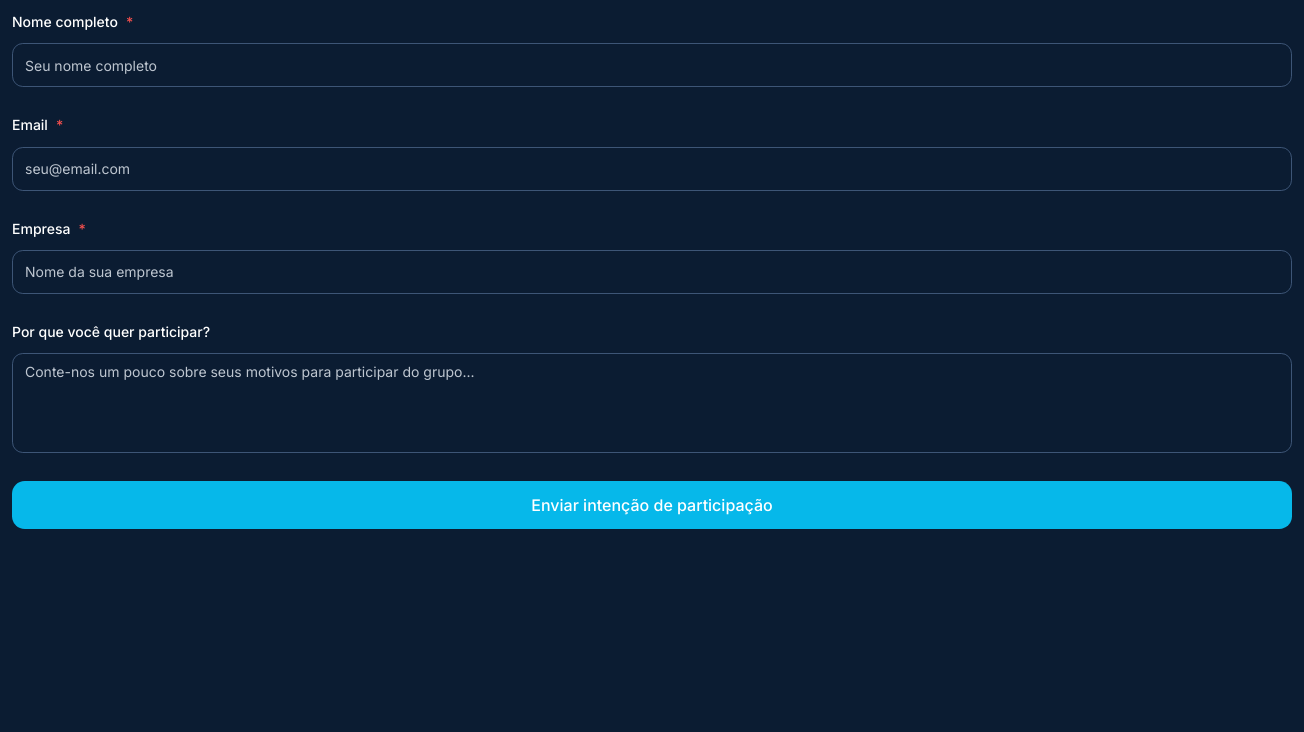
Test: Integration: Submeter intenção via UI › deve exibir erro quando a API retorna erro
This screenshot has width=1304, height=732.
Type "João" into the field labelled "Nome completo *" at (652, 65), box [12,43,1292,87]
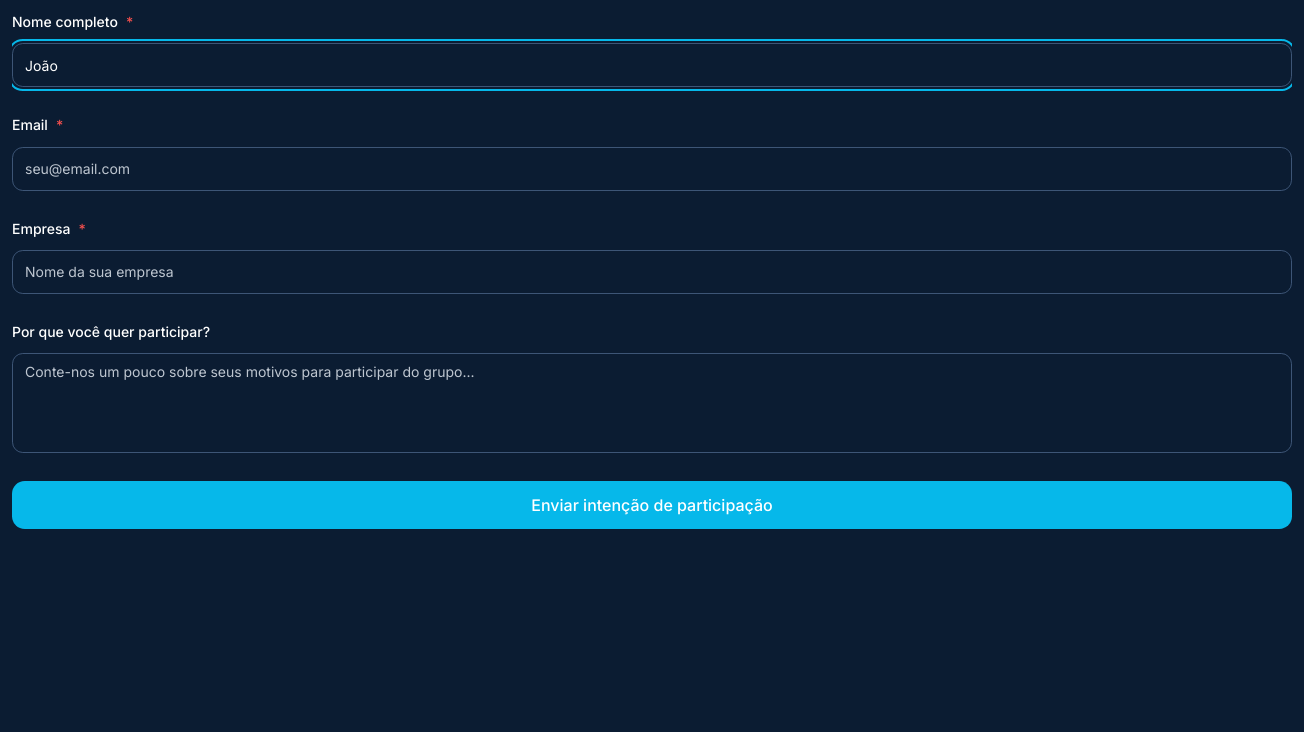
Type "email-invalido" into the field labelled "Email *" at (652, 168), box [12,146,1292,190]
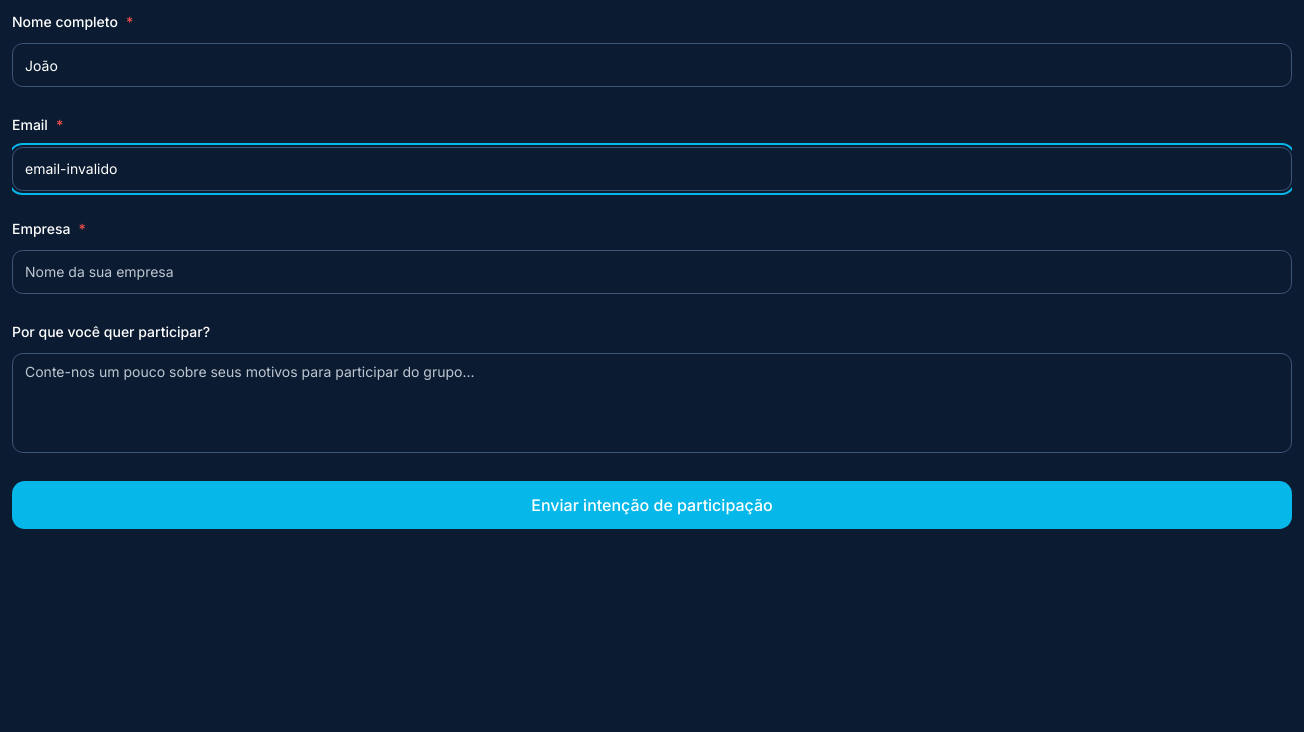
Type "TechCorp" into the field labelled "Empresa *" at (652, 272), box [12,250,1292,294]
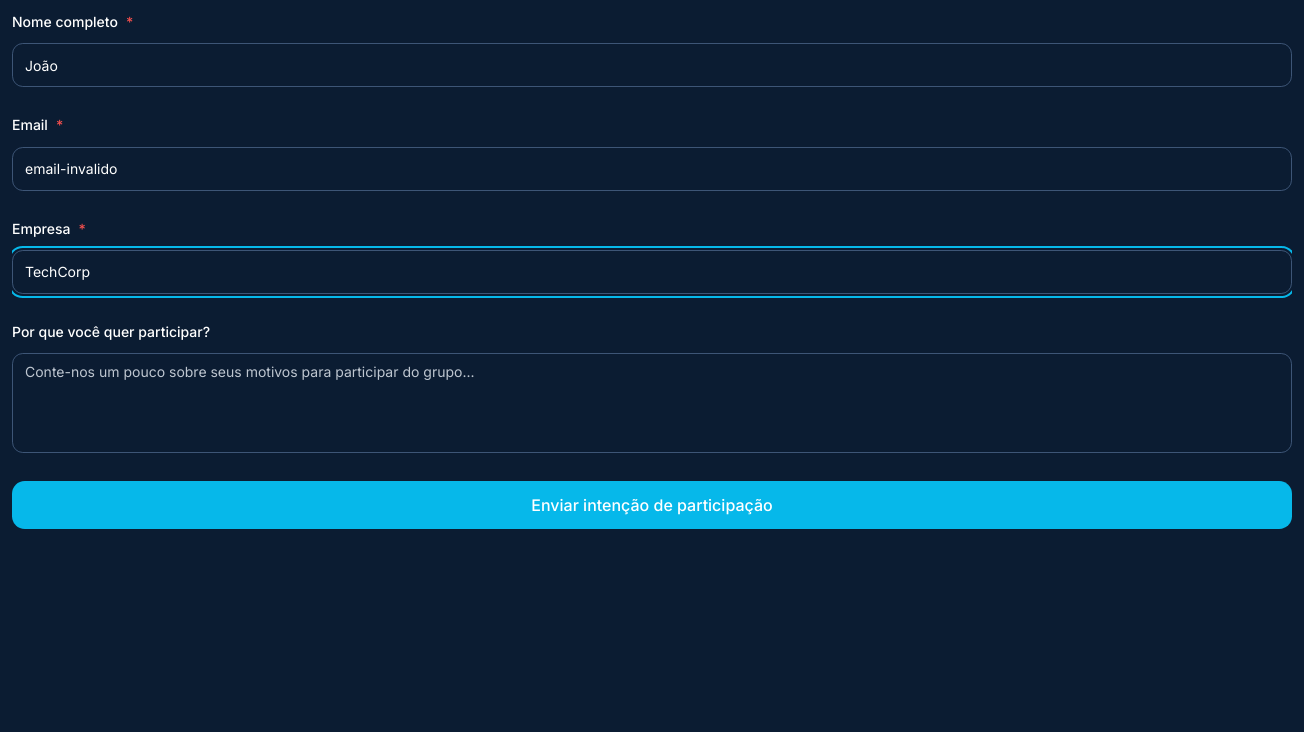
Click the button "Enviar intenção de participação" at (652, 505), box [12,481,1292,529]
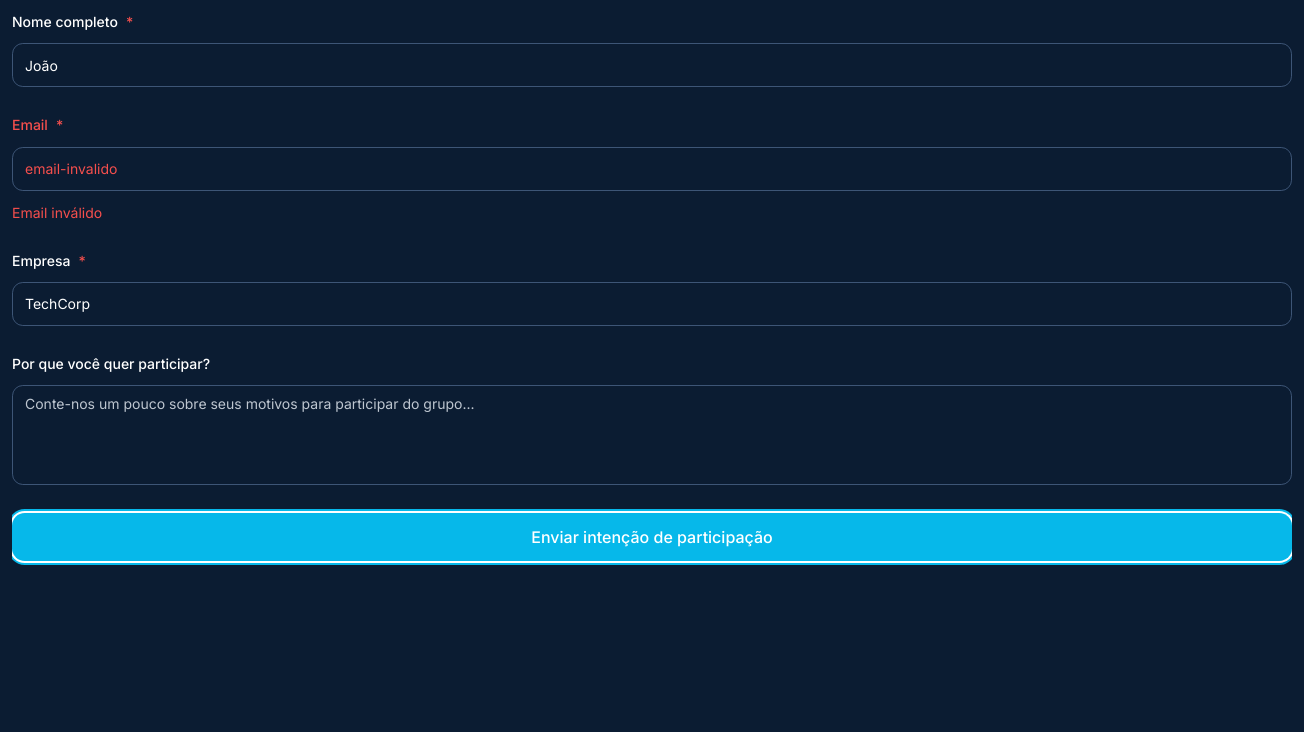
Expected: the text "Email inválido" is shown, [12,204,102,220]
